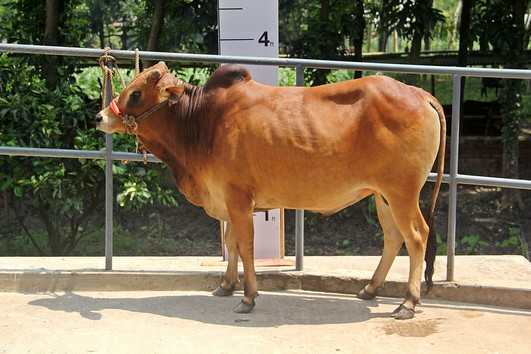cow: (90, 54, 454, 326)
